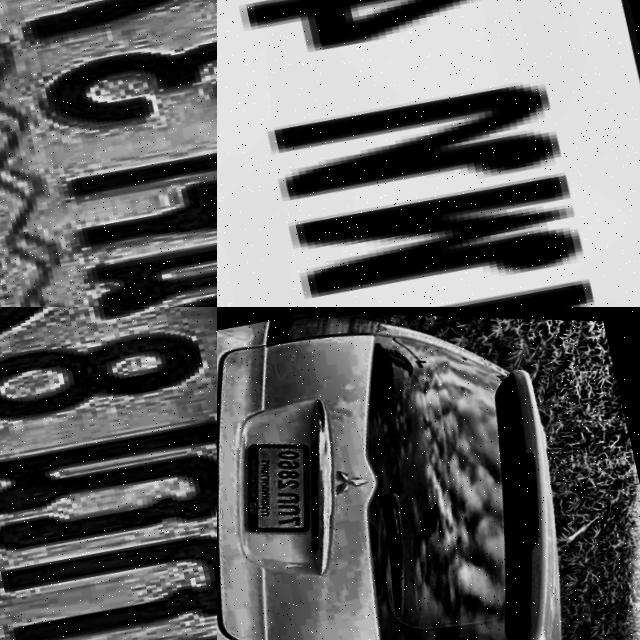license-plate: (217, 0, 640, 307), (0, 307, 217, 640), (0, 0, 217, 307), (228, 431, 326, 540)
